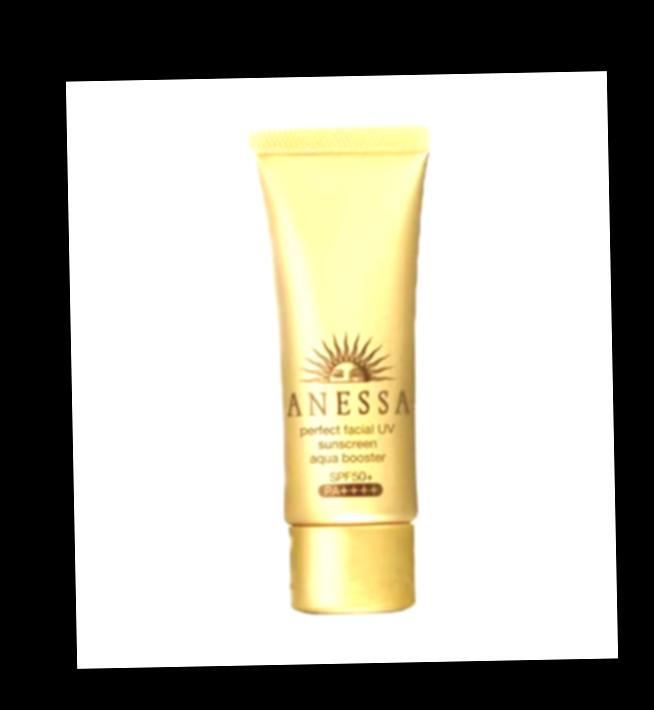cosmetic: (244, 126, 440, 615)
